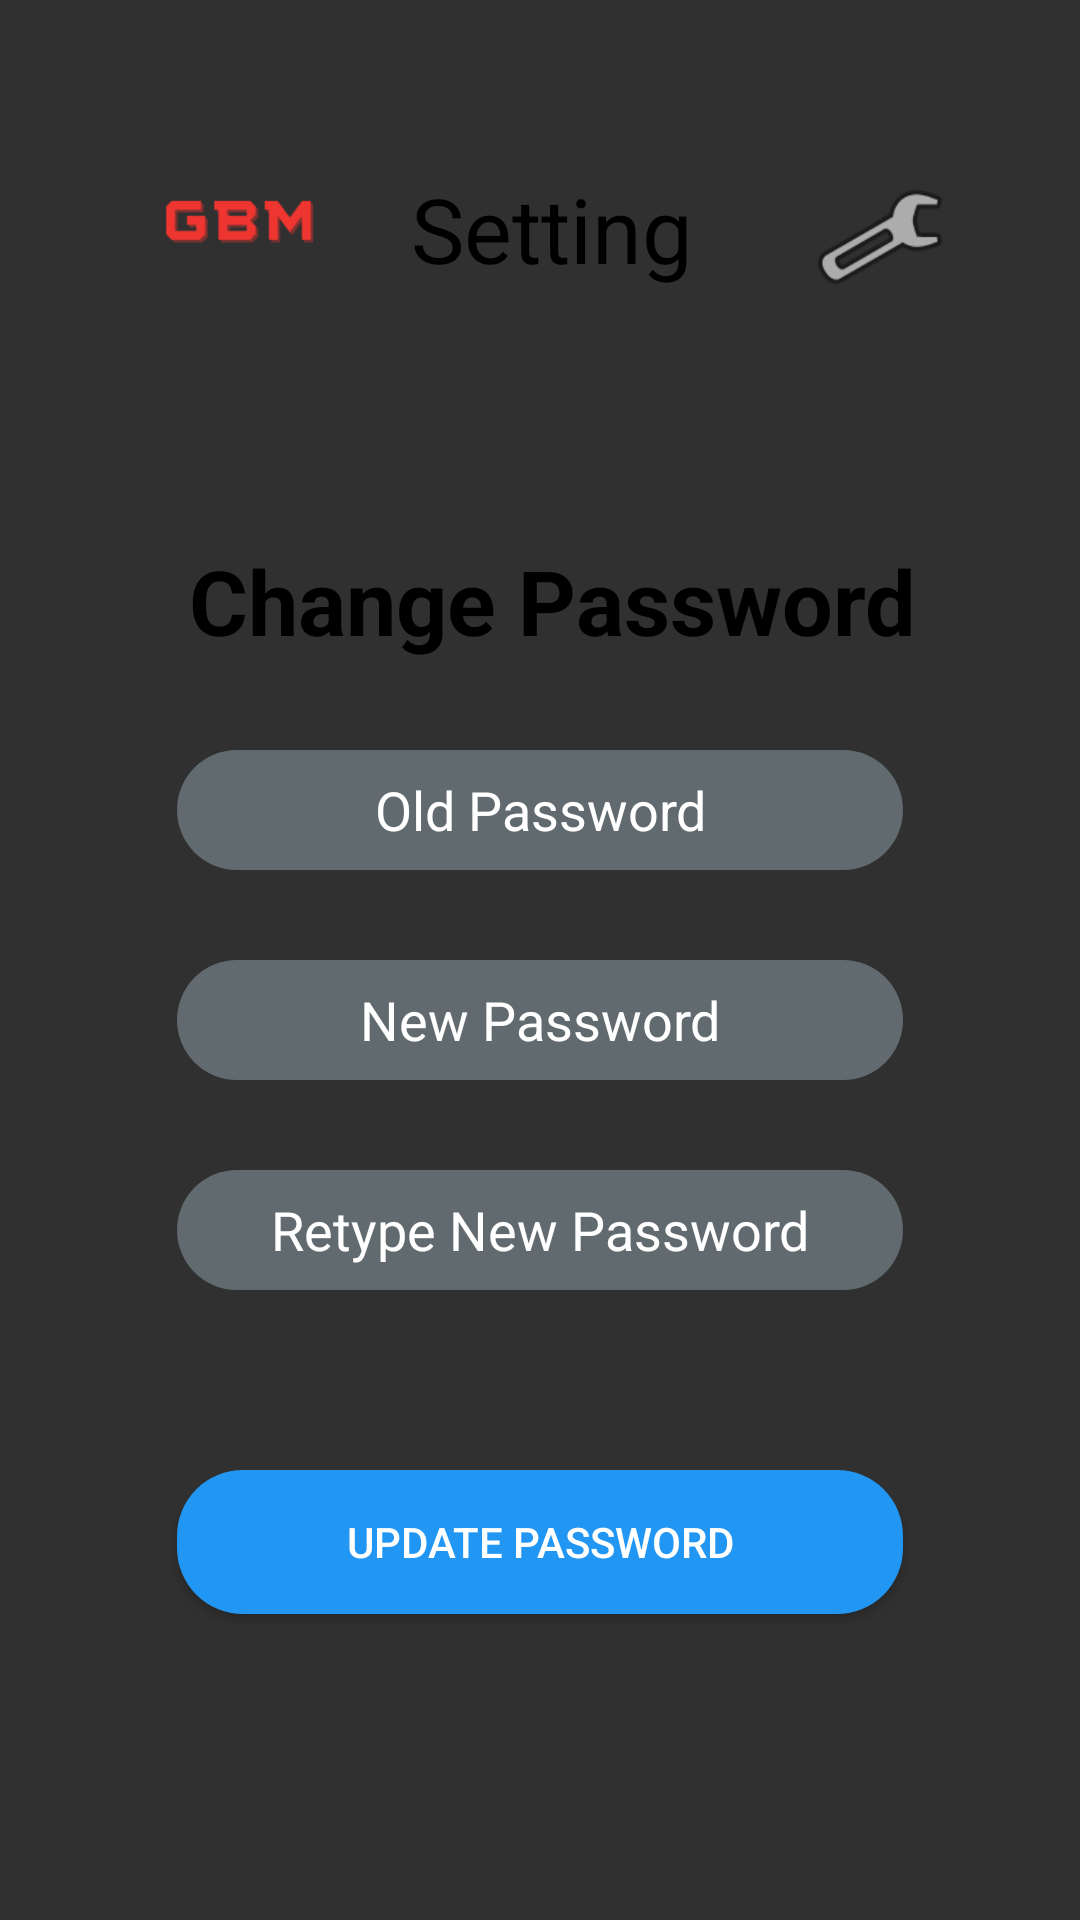

Locate icon controls on the screen. Image size 1080×1920, boxes as (left=x1, top=y1, right=x2, bottom=y2).
manage: (left=821, top=194, right=939, bottom=280)
